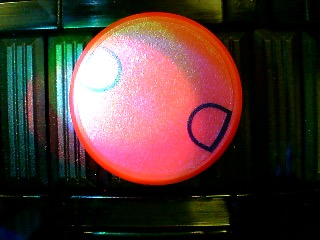MIPO2: (68, 11, 243, 185)
